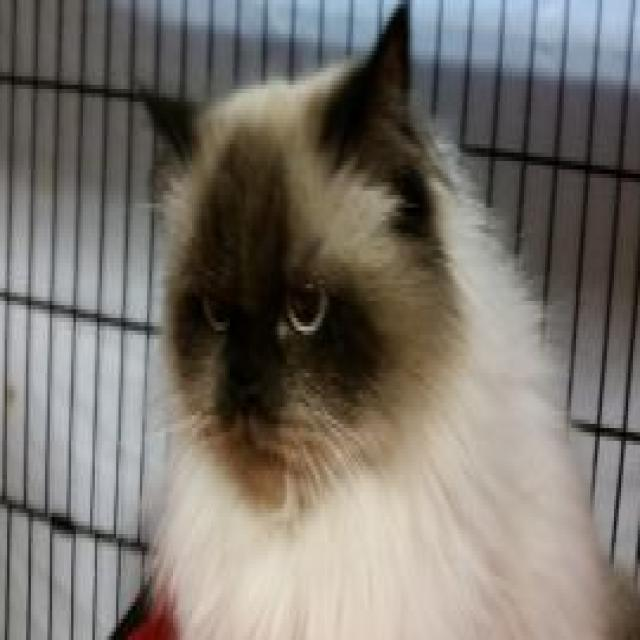Birman: (130, 0, 626, 640)
